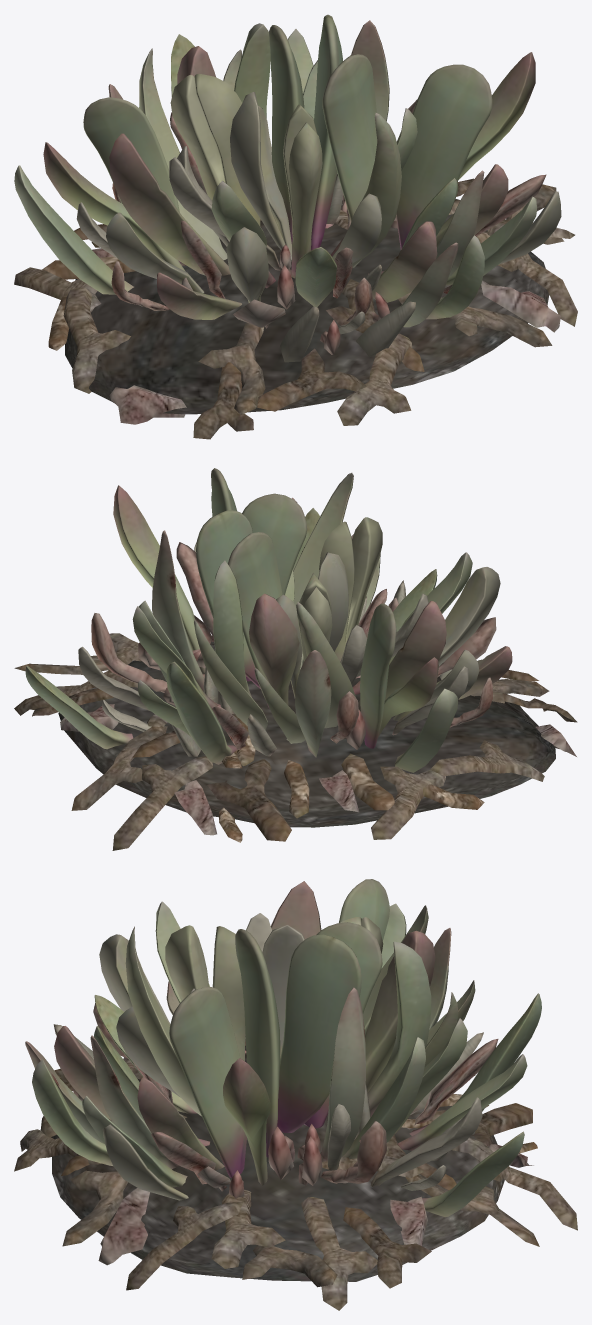
Rendered from cheiridopsis_succulent_a.gltf.
The picture shows the model from 3 angles, top to bottom: view 1: azimuth 30°, elevation 25°; view 2: azimuth 150°, elevation 25°; view 3: azimuth 270°, elevation 25°; orthographic projection. The views are drawn at different scales.
Parts seen in each view (by area): view 1: cheiridopsis_succulent_f_LOD0; view 2: cheiridopsis_succulent_f_LOD0; view 3: cheiridopsis_succulent_f_LOD0.
Part boxes in pixels (x1=…): cheiridopsis_succulent_f_LOD0: x1=14, y1=14, x2=577, y2=439; cheiridopsis_succulent_f_LOD0: x1=14, y1=468, x2=577, y2=850; cheiridopsis_succulent_f_LOD0: x1=14, y1=879, x2=577, y2=1310.
Bounding box in the file's own units: 0.4509 × 0.2315 × 0.4017.
Materials: 1 (1 with a texture image).
